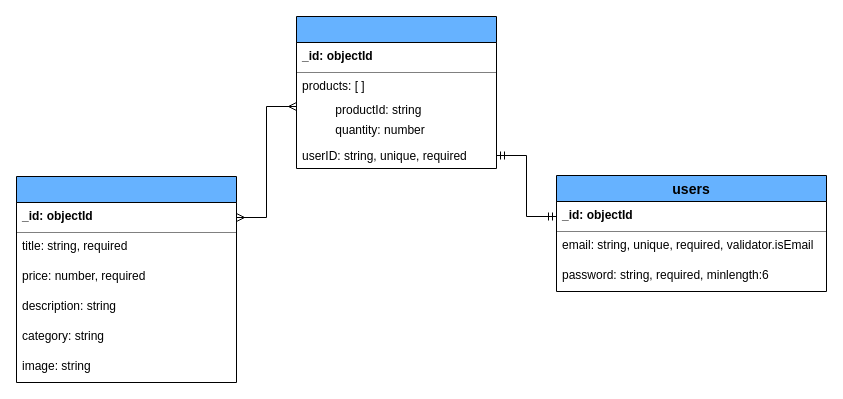
Some shapes in this 843 by 399 pixel diagram are drawn without their labels. The shapes that lost their labels are listed below. From the top down, each one's box as (x1, y1, x2, y2) in pixels, then its label:
(296, 16, 496, 168): carts
(16, 176, 236, 382): products
